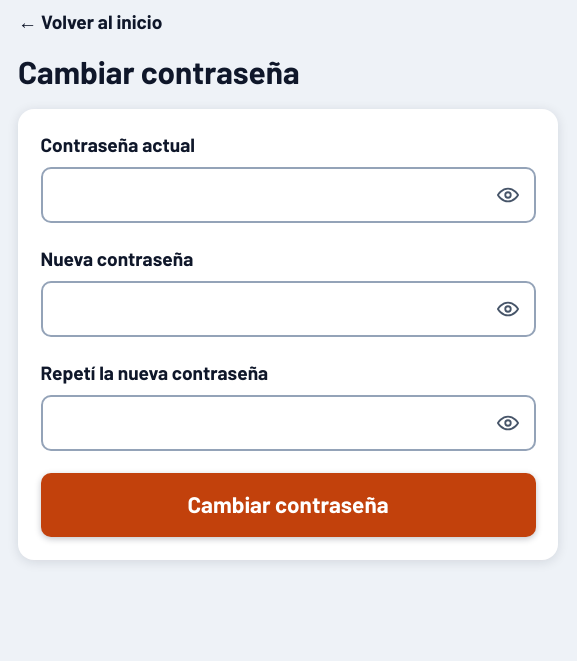
CambiarContrasenaPage › manda las tres contraseñas, avisa el éxito y limpia los campos
Type "Password123!" into the password field labelled "Contraseña actual" at (288, 195), box [40,167,536,223]
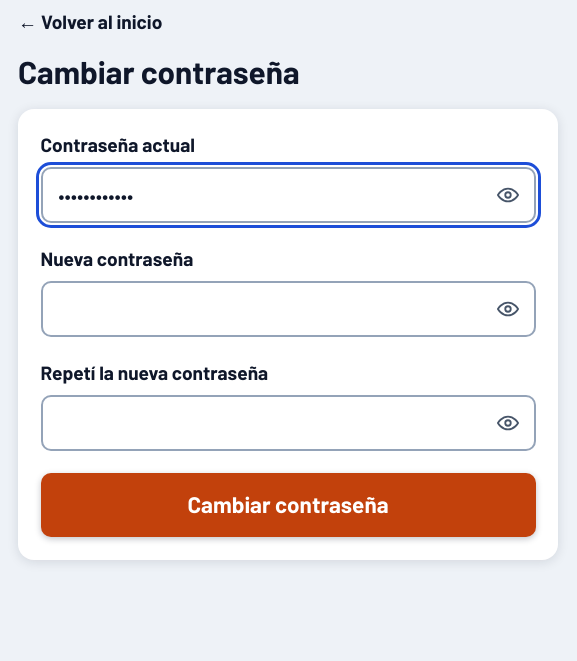
Type "Nueva123!" into the password field labelled "Nueva contraseña" at (288, 309), box [40,281,536,337]
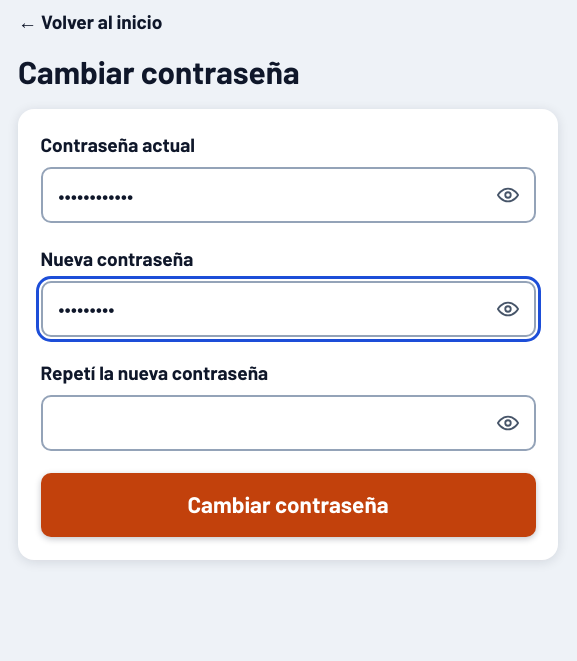
Type "Nueva123!" into the password field labelled "Repetí la nueva contraseña" at (288, 423), box [40,395,536,451]
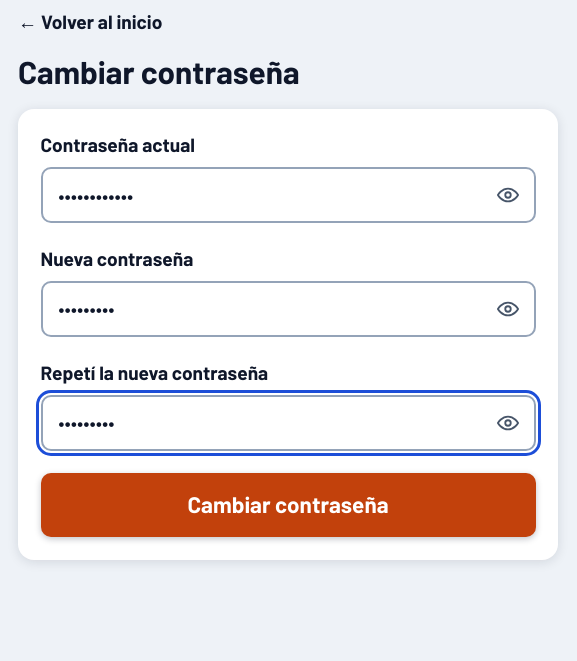
Click the button "Cambiar contraseña" at (288, 505), box [40,473,536,537]
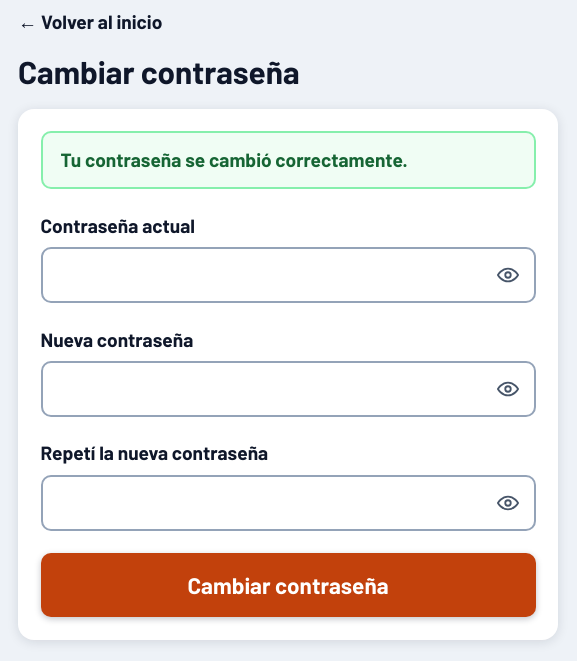
Expected: the message reads "Tu contraseña se cambió correctamente.", [60,148,408,171]
Expected: the password field labelled "Contraseña actual" is empty, [40,247,536,303]
Expected: the password field labelled "Nueva contraseña" is empty, [40,361,536,417]
